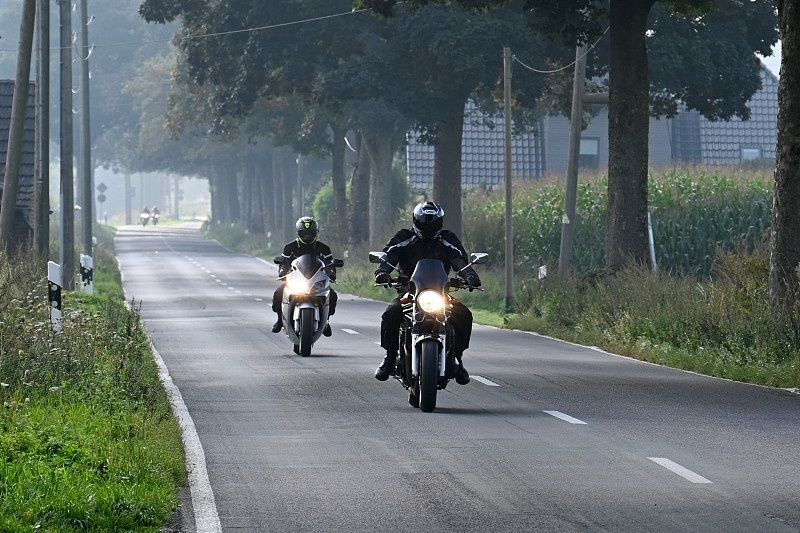non-vehicle: (372, 240, 486, 409), (270, 248, 342, 356)
